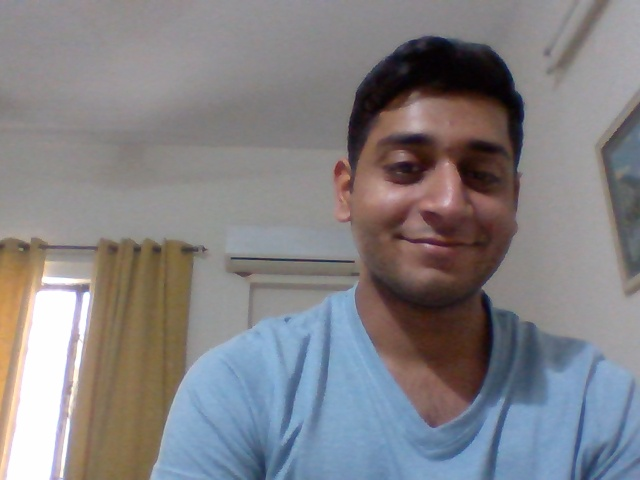happy: (376, 73, 519, 329)
